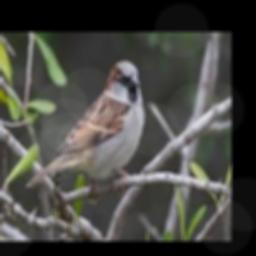Sparrow: (26, 61, 145, 190)
